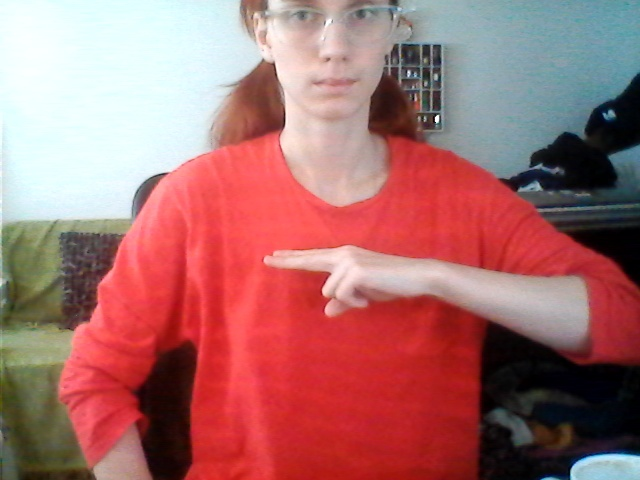frajer: (260, 231, 433, 334)
